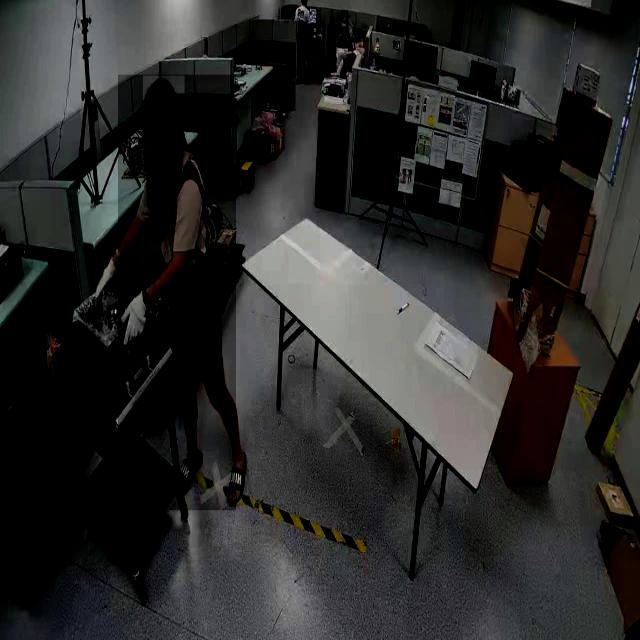face_mask: (143, 106, 163, 178), (336, 12, 348, 34)
hand_glove: (122, 273, 152, 365), (94, 239, 120, 298)
head_nohelmet: (143, 76, 185, 111), (342, 10, 348, 17)
person: (118, 75, 236, 511), (330, 7, 352, 82)
